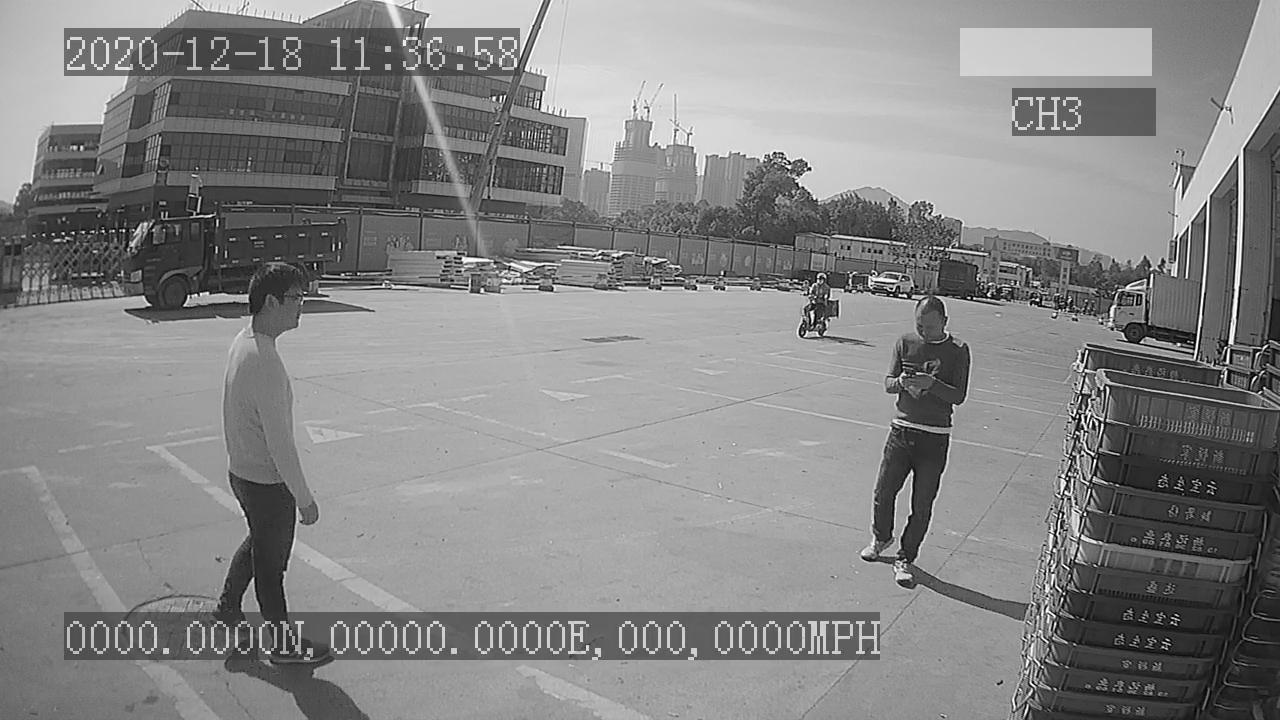person: (858, 295, 975, 586)
